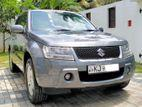car: (8, 10, 135, 104)
